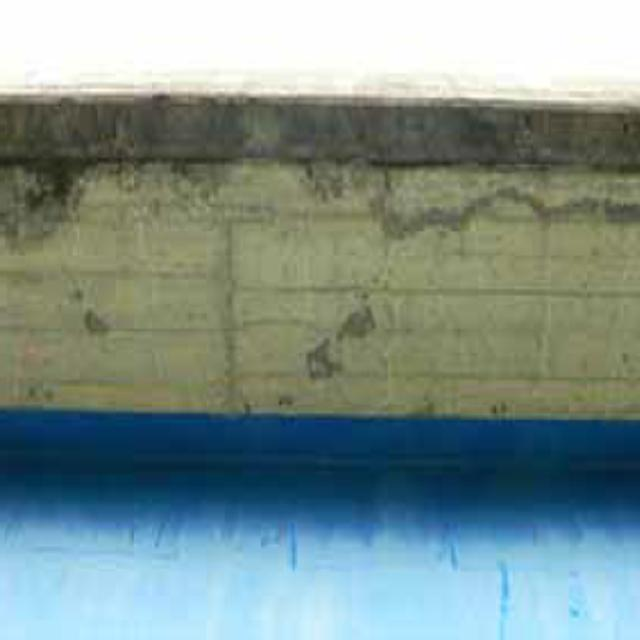crack: (54, 193, 566, 397)
